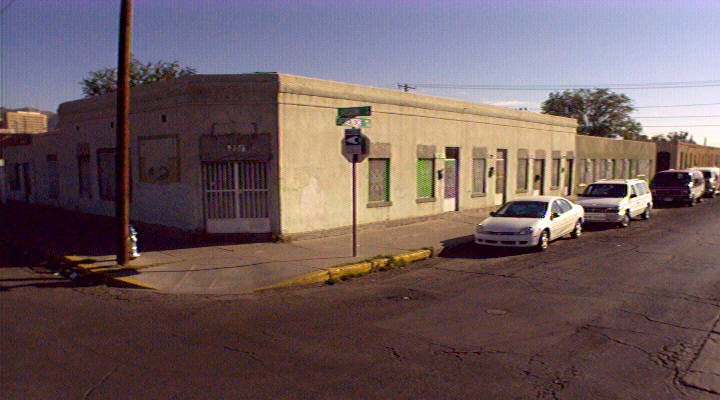Ramp: (130, 240, 321, 302)
